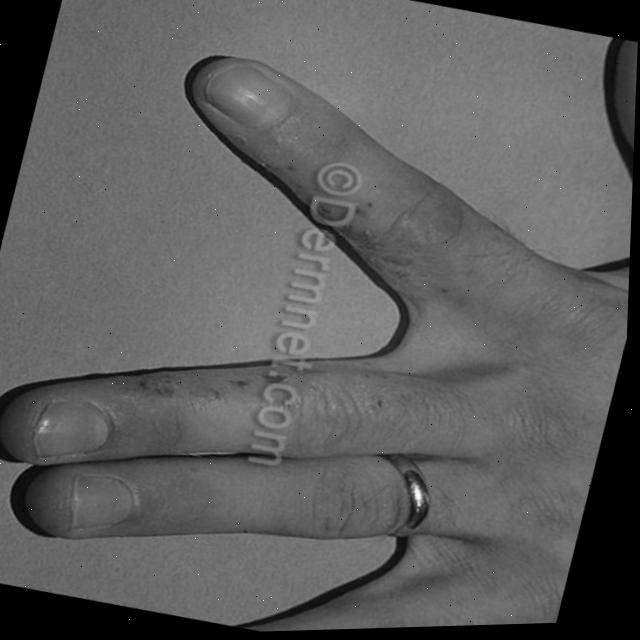Eczema: (94, 314, 288, 454), (294, 151, 399, 250)
